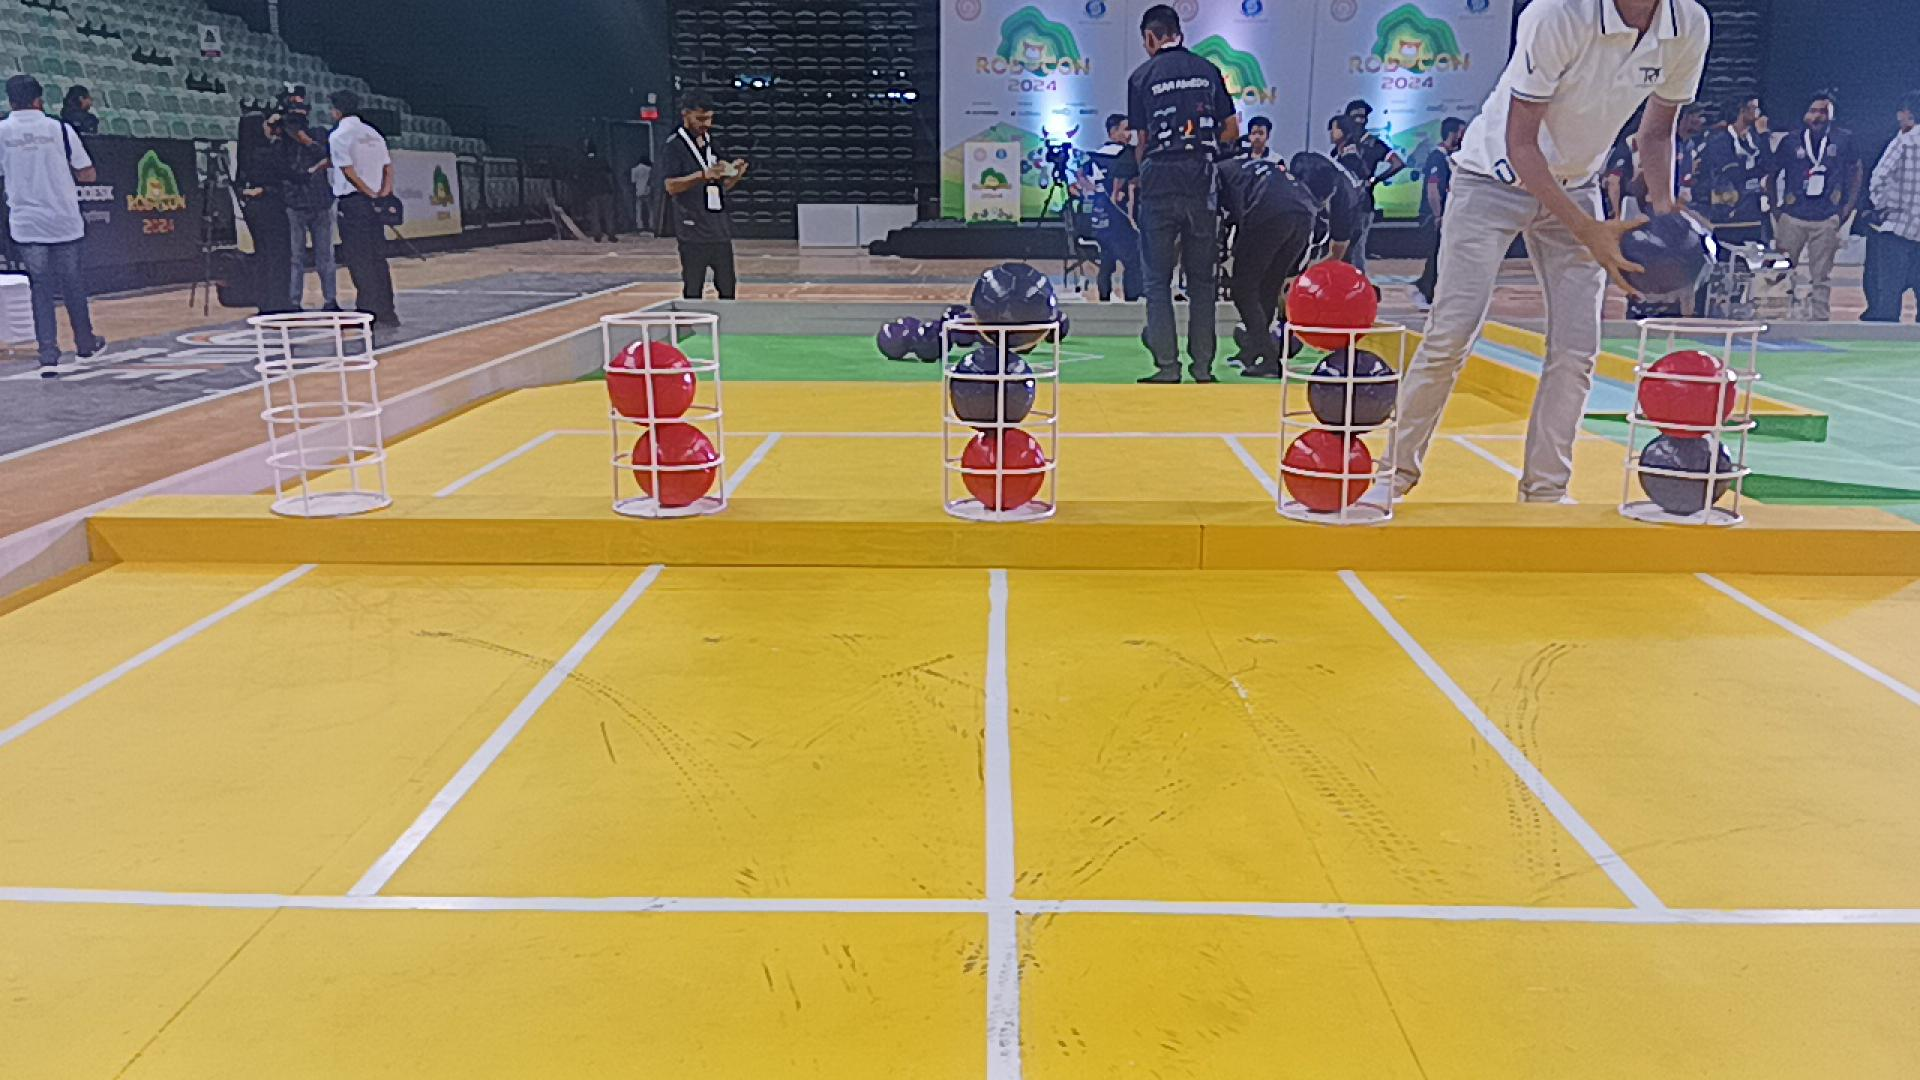dhoka: (972, 262, 1058, 351), (1639, 435, 1733, 516), (1308, 348, 1395, 430), (952, 345, 1035, 423)
laale: (1639, 348, 1737, 435), (1286, 258, 1377, 351), (1283, 427, 1373, 514), (634, 419, 720, 506), (608, 342, 698, 419), (964, 427, 1046, 510)
